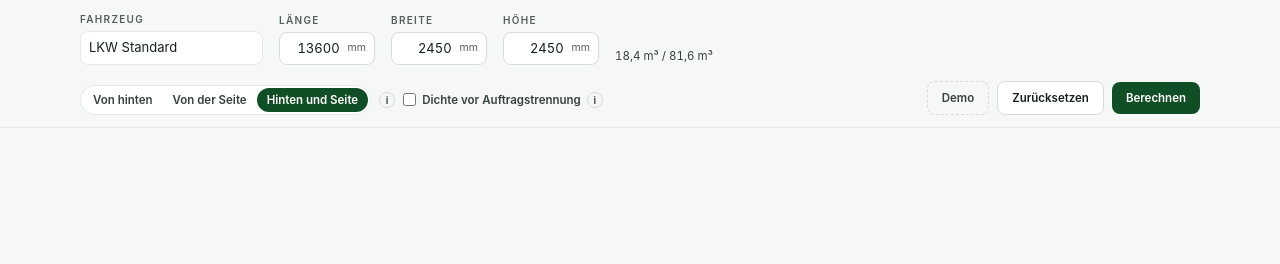
SetupHeader › рядом с режимом погрузки есть подсказка, и её имя не спорит с именем переключателя
Check: the element named "Belademodus" is shown, box [80, 84, 371, 115]
Click the button named "Erklärung zum Belademodus".
click(387, 100)  # box [379, 92, 395, 108]
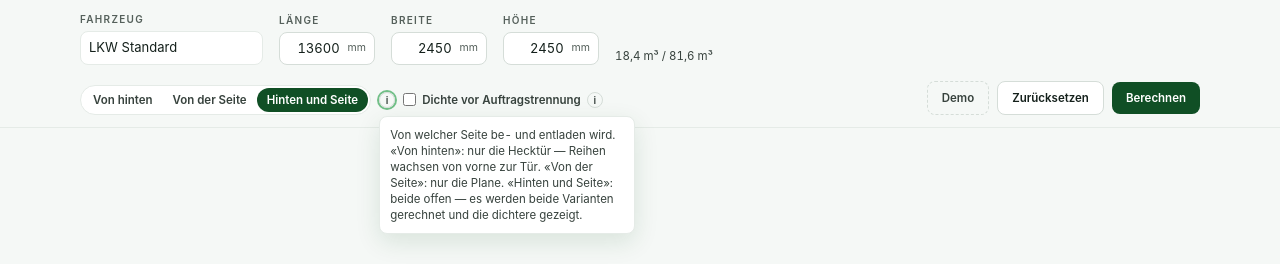
Check: the tooltip shows "beide Varianten gerechnet und die dichtere gezeigt", box [390, 128, 615, 222]
